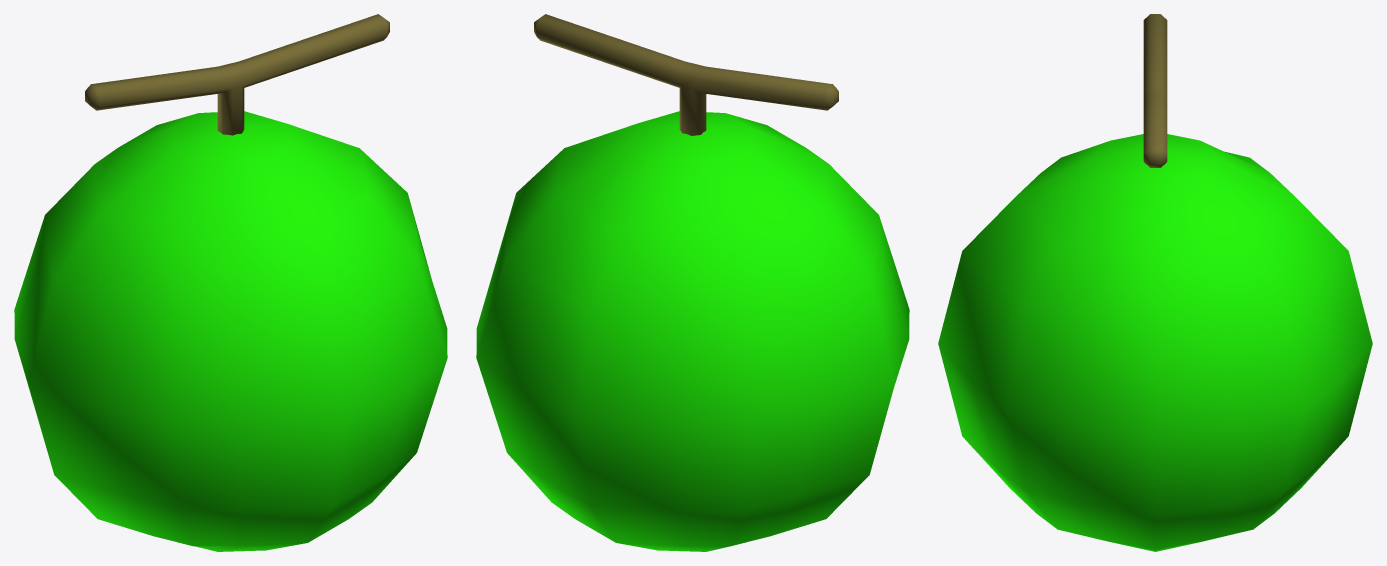
The model's file is melon01.fbx.
The picture shows the model from 3 angles, left to right: view 1: azimuth 30°, elevation 25°; view 2: azimuth 150°, elevation 25°; view 3: azimuth 270°, elevation 25°; orthographic projection. The views are drawn at different scales.
Parts seen in each view (by area): view 1: Base.004, Cube; view 2: Base.004, Cube; view 3: Base.004, Cube.
Part boxes in pixels (<box>): Base.004: <box>14,111,447,551</box>; Cube: <box>85,14,389,135</box>; Base.004: <box>476,111,909,551</box>; Cube: <box>534,14,838,135</box>; Base.004: <box>938,134,1372,551</box>; Cube: <box>1143,14,1167,167</box>.
Bounding box in the file's own units: 2.22 × 2.53 × 2.18.
